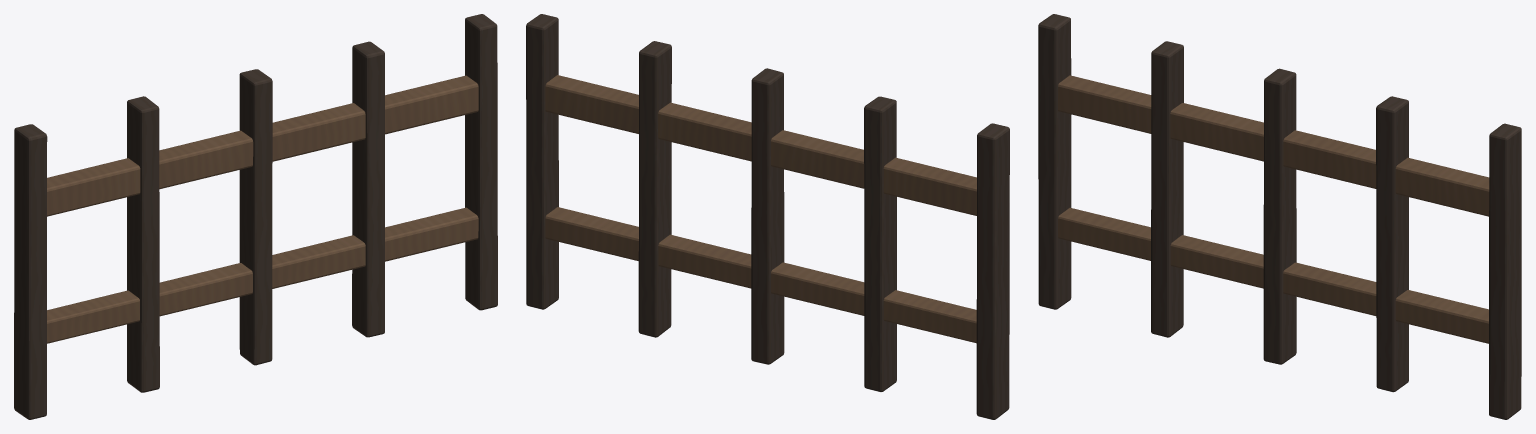
File: AR_Fence_2m.glb
The picture shows the model from 3 angles, left to right: view 1: azimuth 30°, elevation 25°; view 2: azimuth 150°, elevation 25°; view 3: azimuth 330°, elevation 25°; orthographic projection.
Visible parts, largest first — view 1: AR_Fence_2m; view 2: AR_Fence_2m; view 3: AR_Fence_2m.
Boxes of the visible parts, x1,y1,x2,y2 form: AR_Fence_2m: (14, 14, 497, 419); AR_Fence_2m: (526, 14, 1009, 419); AR_Fence_2m: (1038, 14, 1521, 419).
Size of the model in its own units: 2.09 by 1.2 by 0.1226.
2 materials, 2 textured.
